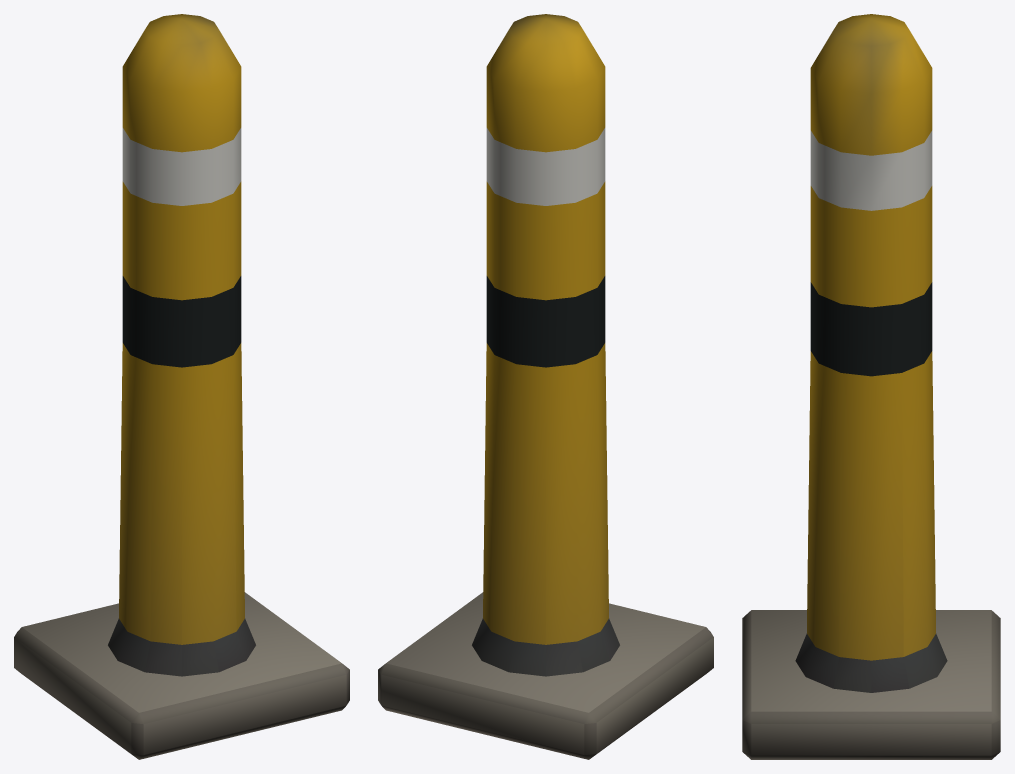
Rendered from bollard.glb.
3 views of the same model, side by side, from view 1: azimuth 30°, elevation 25°; view 2: azimuth 150°, elevation 25°; view 3: azimuth 270°, elevation 25° (orthographic). The views are drawn at different scales.
Visible parts, largest first — view 1: Bollard; view 2: Bollard; view 3: Bollard.
Part boxes in pixels (x1,y1,x2,y2): Bollard: (14, 14, 349, 759); Bollard: (378, 14, 713, 759); Bollard: (742, 14, 1000, 759).
Bounding box in the file's own units: 0.34 × 1 × 0.34.
